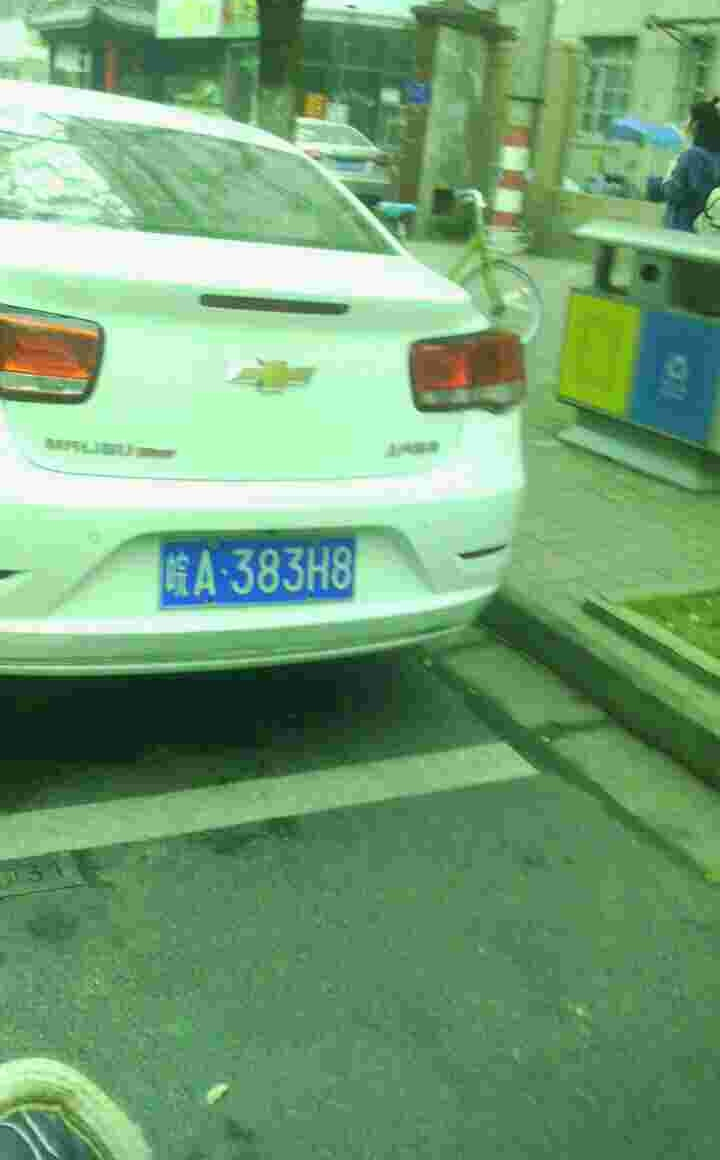license_plate: (165, 543, 355, 607)
